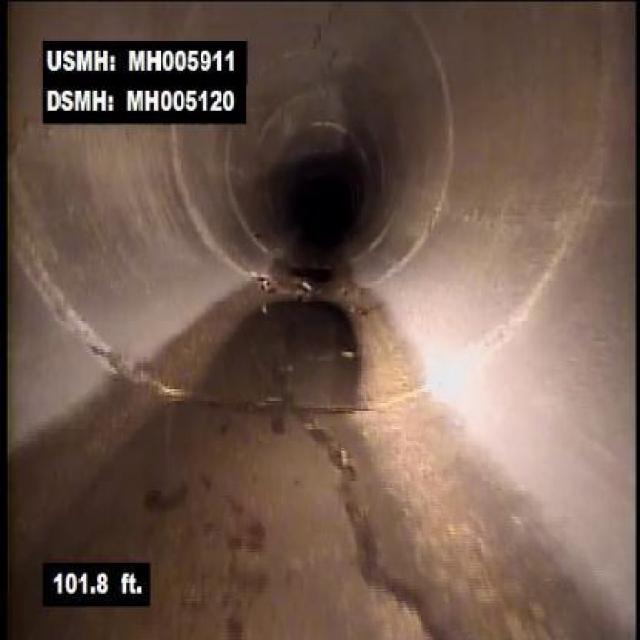Crack: (283, 411, 482, 638), (452, 192, 545, 268), (12, 94, 43, 160)
